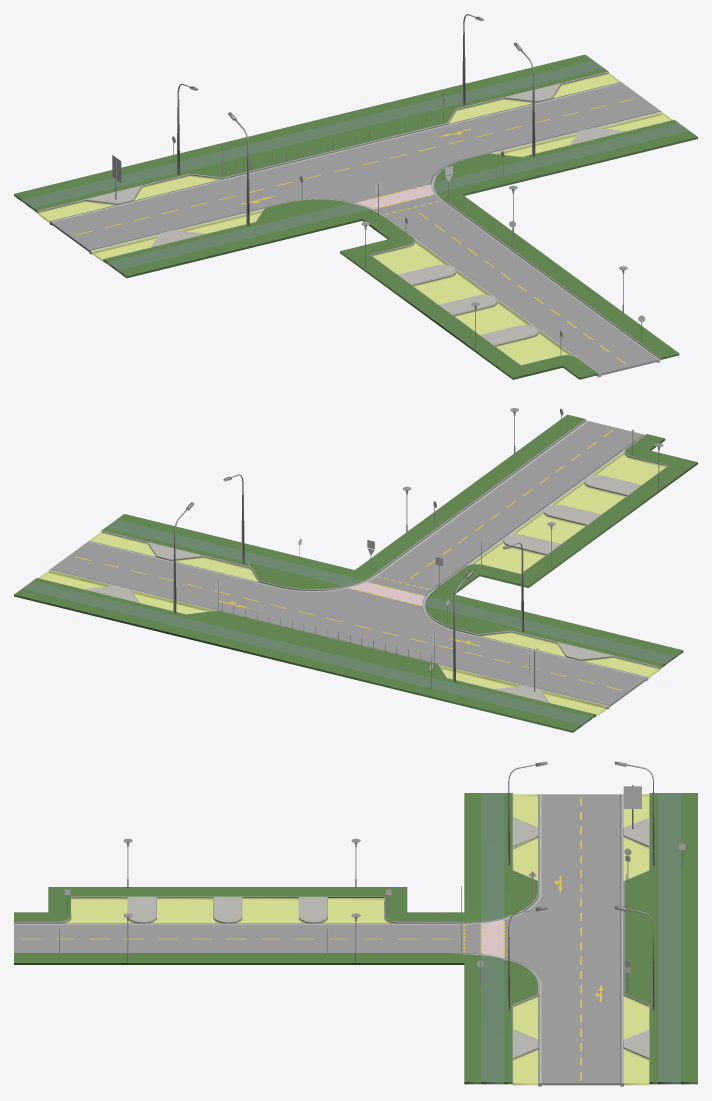
3 renders of one model, top to bottom at view 1: azimuth 30°, elevation 25°; view 2: azimuth 150°, elevation 25°; view 3: azimuth 270°, elevation 25°, orthographic. The views are drawn at different scales.
Visible parts, largest first — view 1: car_parkin; view 2: car_parkin; view 3: car_parkin.
Part boxes in pixels (bbox=[...]): car_parkin: bbox=[14, 14, 697, 379]; car_parkin: bbox=[14, 408, 697, 732]; car_parkin: bbox=[14, 761, 697, 1086].
Size of the model in its own units: 4089 by 711 by 4089.
